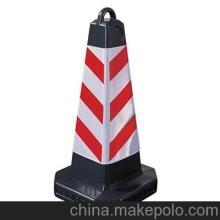cone_barrel: (56, 9, 154, 202)
